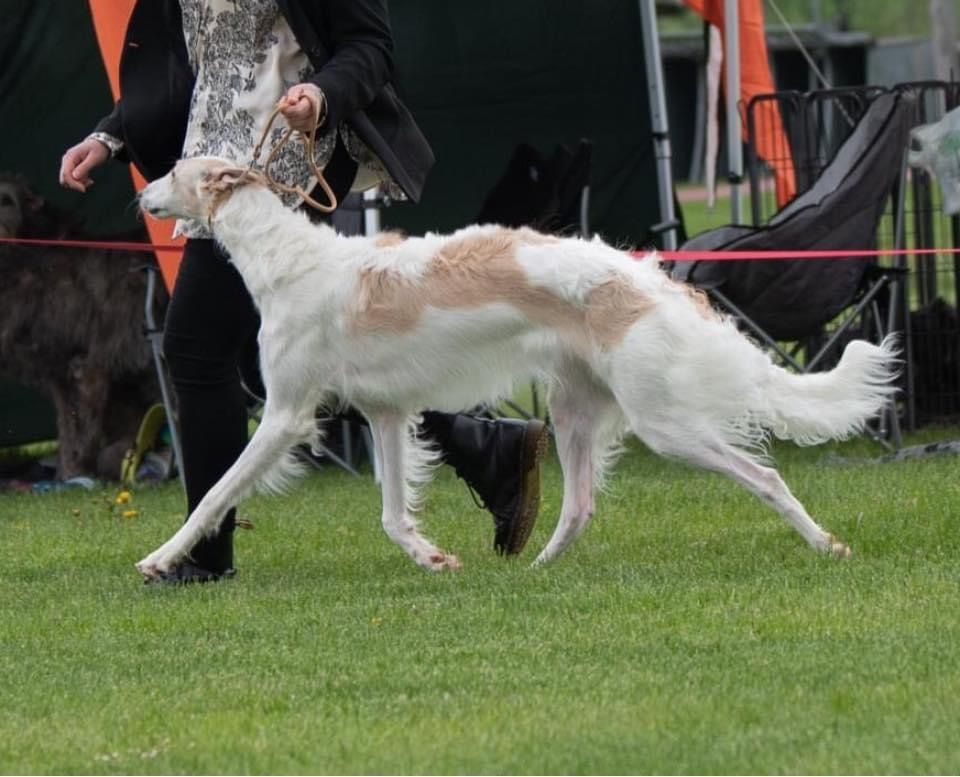borzoi: (122, 154, 910, 593)
